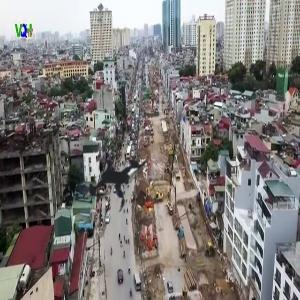drone: (62, 122, 180, 240)
